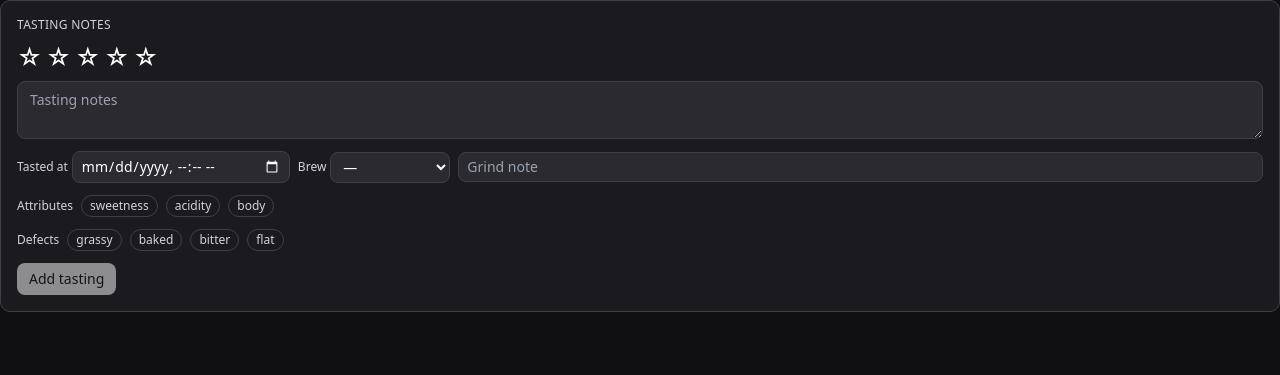
RoastTastings › saves a stars-only entry (every other field optional)
Click the radio button with test id "tasting-star-4".
click(117, 57)  # box [104,45,129,69]
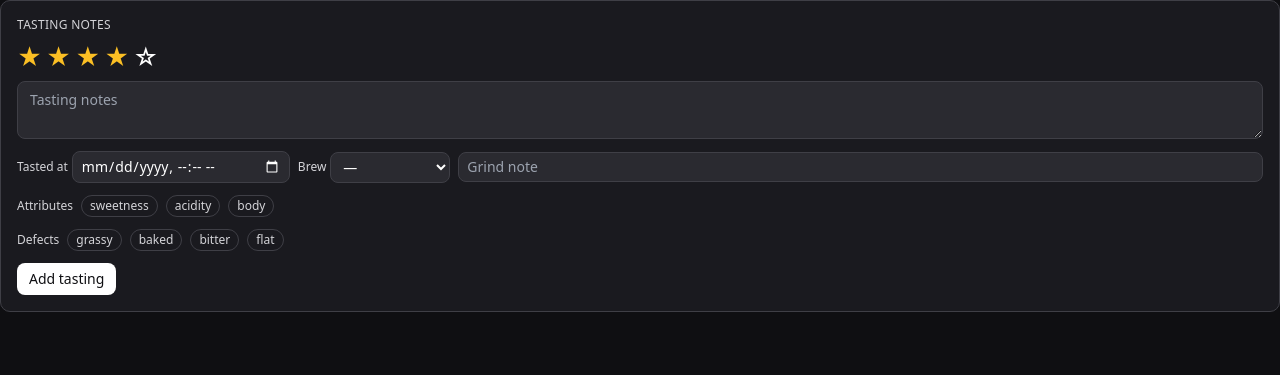
Click the button with test id "tasting-save".
click(67, 279)  # box [17,263,116,295]
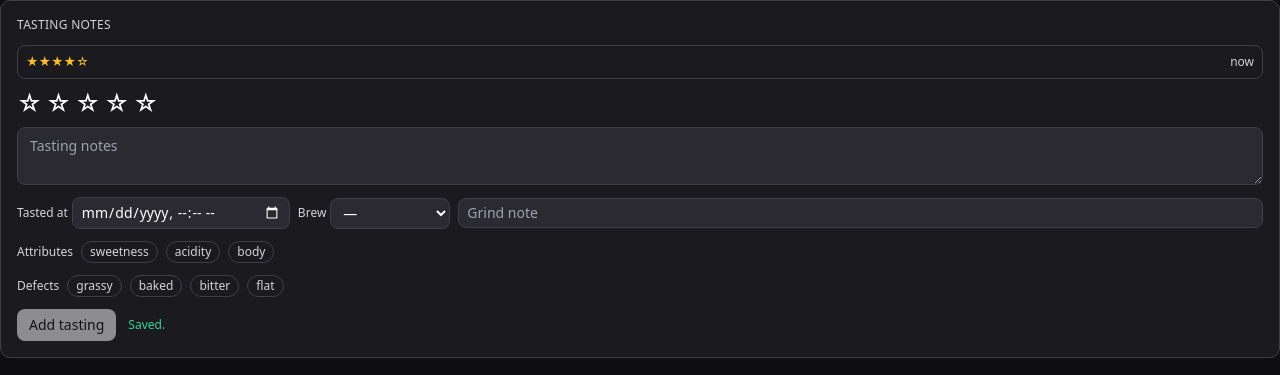
Expected: the text "Saved." is shown, [128,317,165,333]
